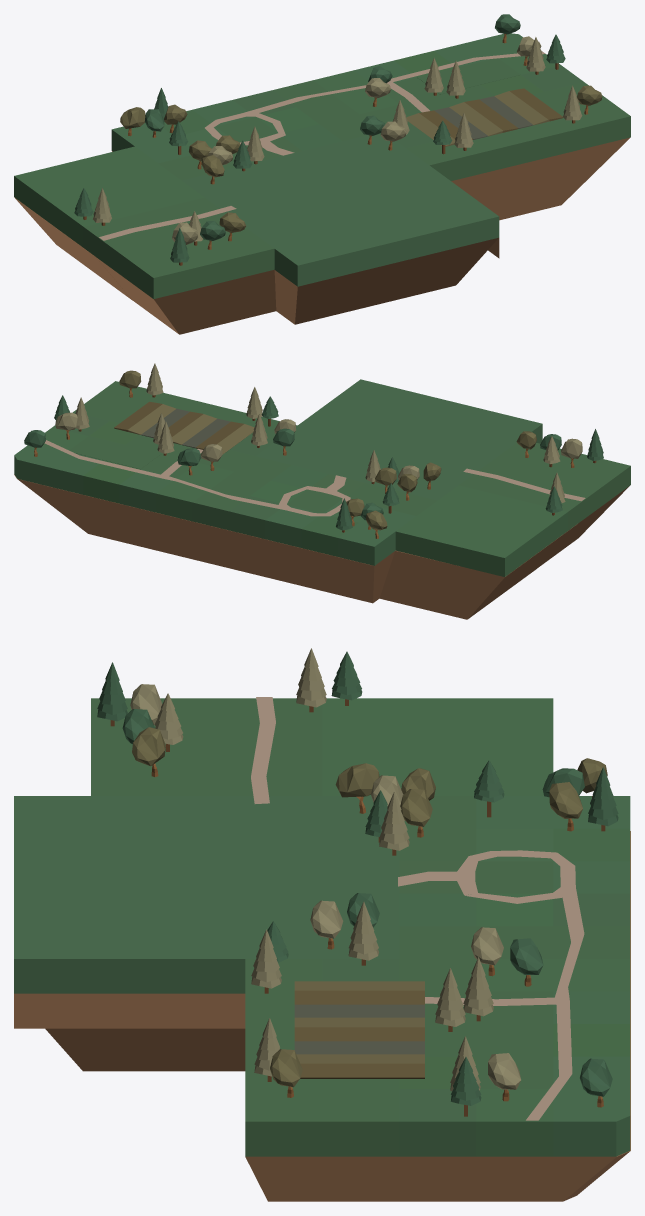
File: Tileset.glb
3 renders of one model, top to bottom at view 1: azimuth 30°, elevation 25°; view 2: azimuth 150°, elevation 25°; view 3: azimuth 270°, elevation 25°, orthographic. The views are drawn at different scales.
Visible parts, largest first — view 1: tilecastle, dirt, tiledock, lightpine, pathway, medtree, darkpine, cube39, tilebighouses, darktree, Plane.003, lighttree (+37 smaller); view 2: dirt, tilecastle, tiledock, lightpine, tilebighouses, pathway, medtree, darkpine, cube1, tilesmallhouses, Plane.003, lighttree (+38 smaller); view 3: tilecastle, dirt, tiledock, lightpine, pathway, tilebighouses, medtree, darkpine, Plane.004, tilewindmill, cube38, cube10 (+42 smaller).
Part boxes in pixels (x1=…): tilecastle: x1=182, y1=133, x2=499, y2=286; dirt: x1=14, y1=137, x2=630, y2=334; tiledock: x1=14, y1=146, x2=204, y2=247; lightpine: x1=93, y1=37, x2=582, y2=245; pathway: x1=99, y1=51, x2=545, y2=240; medtree: x1=120, y1=85, x2=602, y2=241; darkpine: x1=74, y1=34, x2=565, y2=265; cube39: x1=130, y1=251, x2=193, y2=298; tilebighouses: x1=107, y1=216, x2=250, y2=281; darktree: x1=144, y1=14, x2=520, y2=249; Plane.003: x1=406, y1=91, x2=549, y2=146; lighttree: x1=172, y1=36, x2=541, y2=244; dirt: x1=14, y1=474, x2=629, y2=619; tilecastle: x1=256, y1=379, x2=542, y2=500; tiledock: x1=395, y1=485, x2=567, y2=576; lightpine: x1=75, y1=363, x2=565, y2=503; tilebighouses: x1=480, y1=454, x2=609, y2=515; pathway: x1=44, y1=440, x2=585, y2=516; medtree: x1=119, y1=370, x2=536, y2=538; darkpine: x1=54, y1=395, x2=603, y2=532; cube1: x1=338, y1=522, x2=395, y2=565; tilesmallhouses: x1=69, y1=436, x2=161, y2=469; Plane.003: x1=127, y1=404, x2=254, y2=454; lighttree: x1=55, y1=412, x2=582, y2=492; tilecastle: x1=14, y1=796, x2=399, y2=993; dirt: x1=14, y1=831, x2=630, y2=1201; tiledock: x1=322, y1=698, x2=553, y2=795; lightpine: x1=154, y1=648, x2=493, y2=1091; pathway: x1=251, y1=697, x2=584, y2=1120; tilebighouses: x1=168, y1=698, x2=245, y2=795; medtree: x1=132, y1=727, x2=607, y2=1097; darkpine: x1=97, y1=651, x2=618, y2=1116; Plane.004: x1=294, y1=990, x2=424, y2=1078; tilewindmill: x1=322, y1=1089, x2=399, y2=1156; cube38: x1=245, y1=1089, x2=322, y2=1156; cube10: x1=553, y1=1089, x2=630, y2=1156.
Size of the model in its own units: 26.02 by 5.52 by 16.01.
